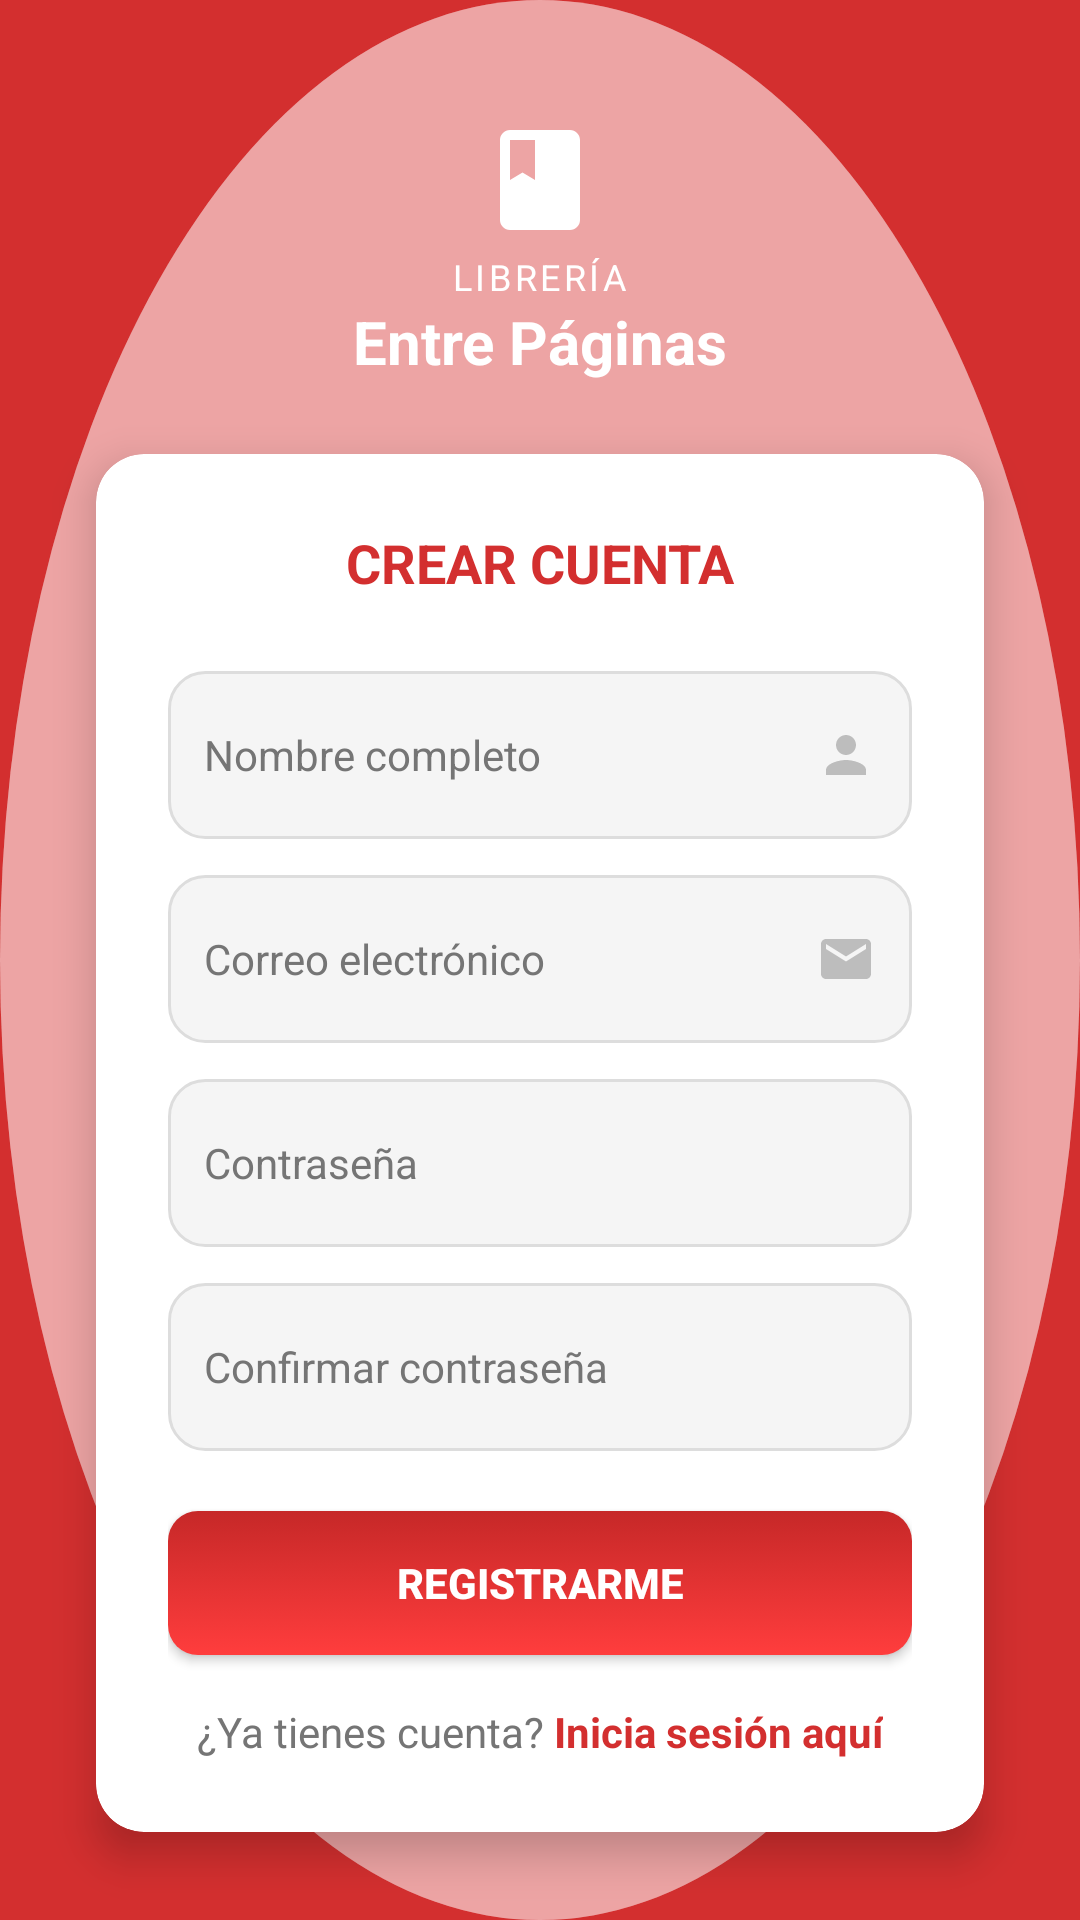

Icon click points for this 1080 x 1920 phone screenshot, format (x,y):
book: (540,180)
email: (846,959)
person: (846,755)
